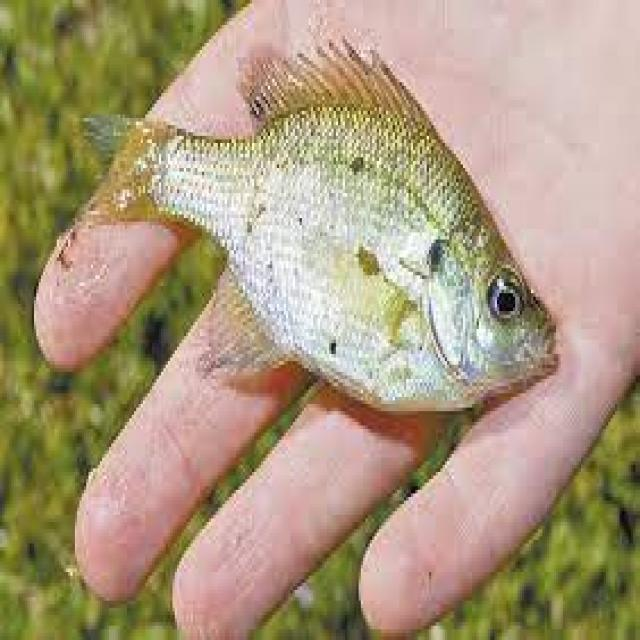EUS Disease: (87, 45, 559, 418), (240, 92, 459, 383), (78, 94, 268, 231)
